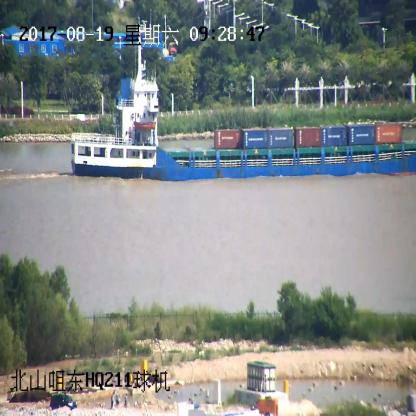Bulk Carrier: (71, 42, 415, 183)
